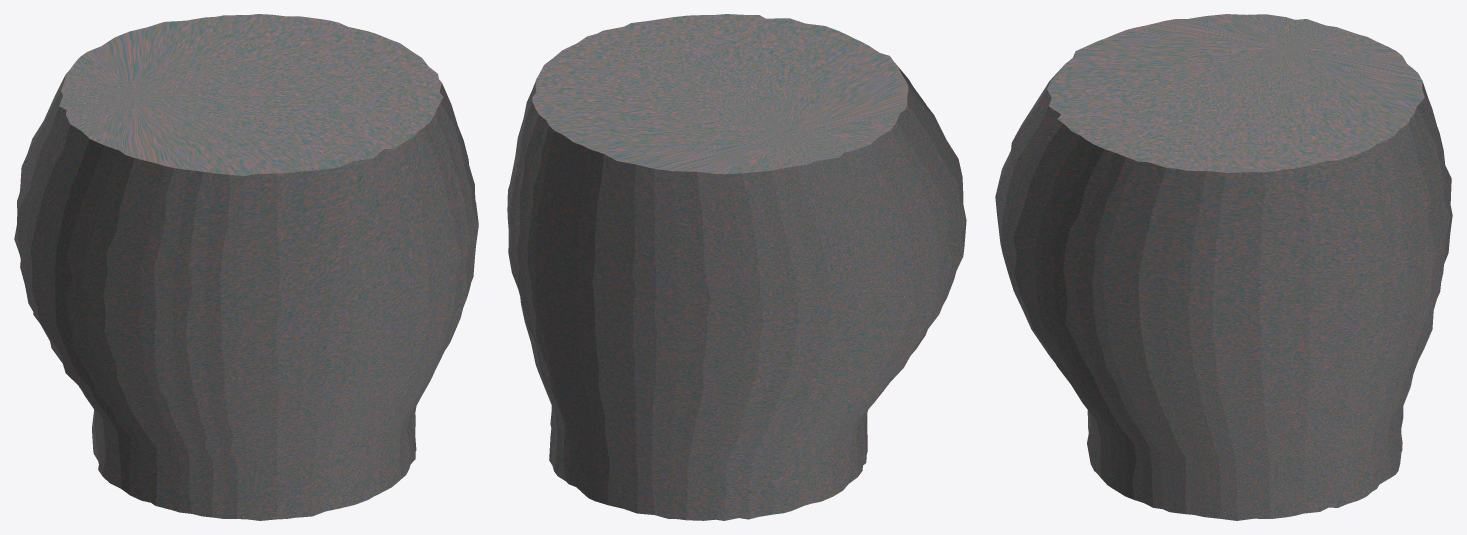
The model's file is barrel_1.dae.
3 views of the same model, side by side, from view 1: azimuth 30°, elevation 25°; view 2: azimuth 150°, elevation 25°; view 3: azimuth 270°, elevation 25° (orthographic). The views are drawn at different scales.
Visible parts, largest first — view 1: Cylinder; view 2: Cylinder; view 3: Cylinder.
Part boxes in pixels (left/top/right/bottom): Cylinder: left=14, top=14, right=478, bottom=520; Cylinder: left=507, top=14, right=966, bottom=520; Cylinder: left=995, top=14, right=1452, bottom=520.
Size of the model in its own units: 1.16 by 1.16 by 1.
Materials: 1 (1 with a texture image).
